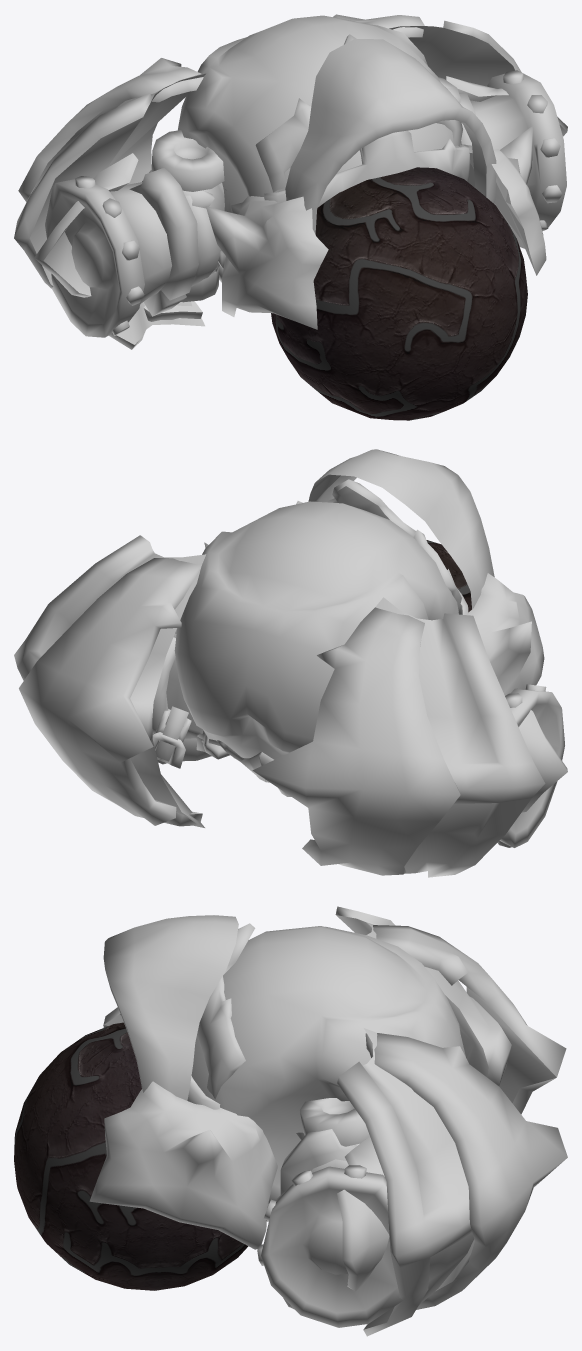
The model's file is Born (6).obj.
The picture shows the model from 3 angles, top to bottom: view 1: azimuth 30°, elevation 25°; view 2: azimuth 150°, elevation 25°; view 3: azimuth 270°, elevation 25°; orthographic projection. The views are drawn at different scales.
Visible parts, largest first — view 1: ironreaver01; view 2: ironreaver01; view 3: ironreaver01.
Part boxes in pixels (x1,y1,x2,y2): ironreaver01: (14, 14, 567, 420); ironreaver01: (14, 449, 567, 877); ironreaver01: (14, 906, 567, 1336).
Size of the model in its own units: 1.55 by 0.9442 by 1.33.
